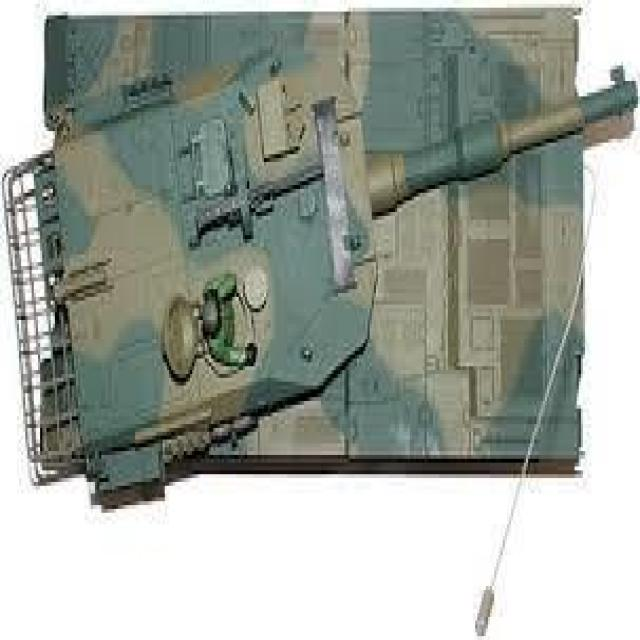Tanks: (19, 17, 608, 484)
